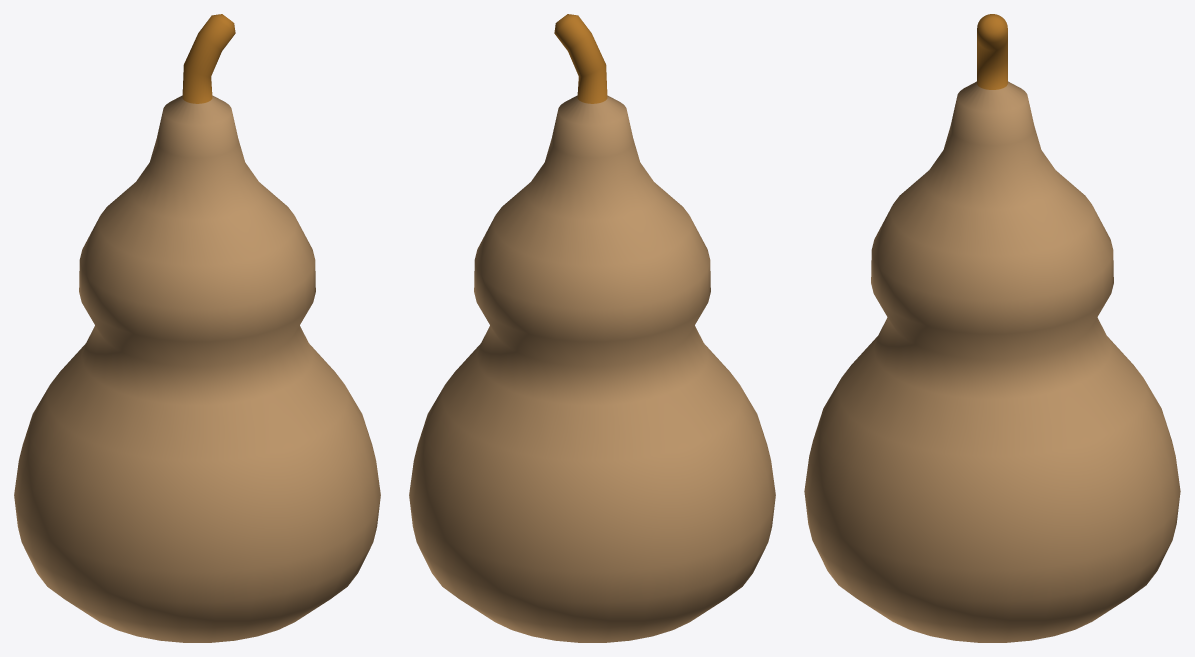
Rendered from Gourd.fbx.
The picture shows the model from 3 angles, left to right: view 1: azimuth 30°, elevation 25°; view 2: azimuth 150°, elevation 25°; view 3: azimuth 270°, elevation 25°; orthographic projection. The views are drawn at different scales.
Parts seen in each view (by area): view 1: Cylinder; view 2: Cylinder; view 3: Cylinder.
Boxes of the visible parts, x1=… form: Cylinder: x1=14, y1=14, x2=380, y2=642; Cylinder: x1=409, y1=14, x2=775, y2=642; Cylinder: x1=804, y1=14, x2=1180, y2=642.
Bounding box in the file's own units: 161 × 293 × 162.
